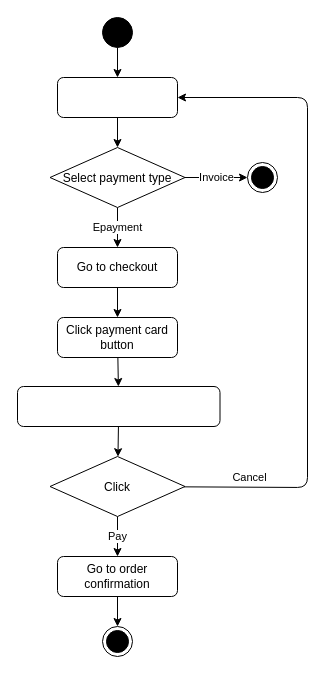
The diagram is 333 pixels wide and 674 high, and some of its shapes have lost their labels. Here are the shapes that lost their labels. From the top down, the centre of each, then its label:
point 117,97: Go to payment page
point 118,406: Enter credit card details on DPA hosted payment page
